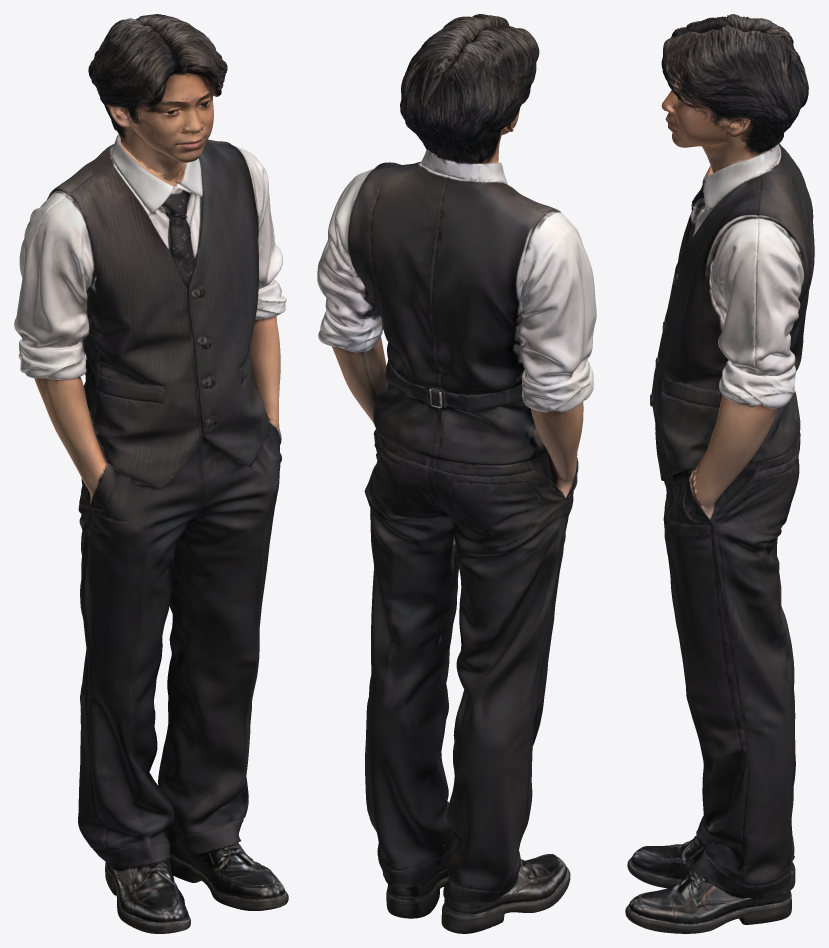
Rendered from andrew3d.glb.
3 renders of one model, left to right at view 1: azimuth 30°, elevation 25°; view 2: azimuth 150°, elevation 25°; view 3: azimuth 270°, elevation 25°, orthographic.
Visible parts, largest first — view 1: tripo_node_9e922fb7-6a80-4494-b970-db003a31c7b8; view 2: tripo_node_9e922fb7-6a80-4494-b970-db003a31c7b8; view 3: tripo_node_9e922fb7-6a80-4494-b970-db003a31c7b8.
Part boxes in pixels (box(x1,y1,x2,y2)): tripo_node_9e922fb7-6a80-4494-b970-db003a31c7b8: box(14, 14, 288, 933); tripo_node_9e922fb7-6a80-4494-b970-db003a31c7b8: box(317, 14, 596, 933); tripo_node_9e922fb7-6a80-4494-b970-db003a31c7b8: box(625, 14, 814, 933).
Bounding box in the file's own units: 0.3044 × 0.9808 × 0.1931.
1 material, 1 textured.
